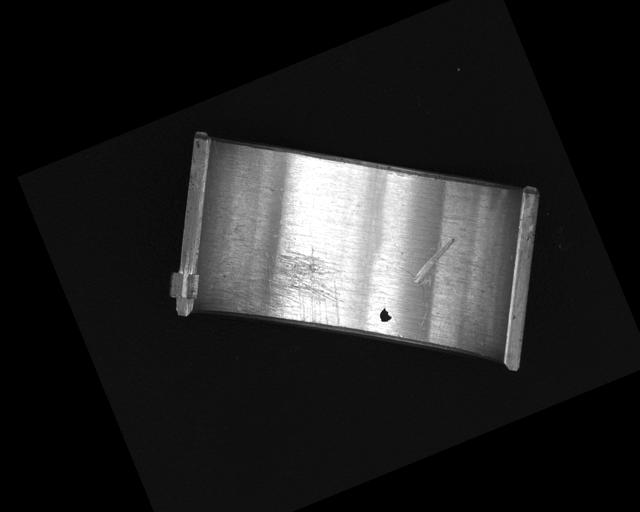blot: (376, 305, 392, 325)
nick: (403, 236, 468, 291), (393, 260, 438, 330)
scratch: (231, 232, 362, 358)
